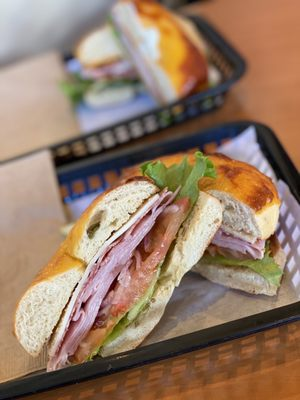soup: (192, 152, 286, 297)
